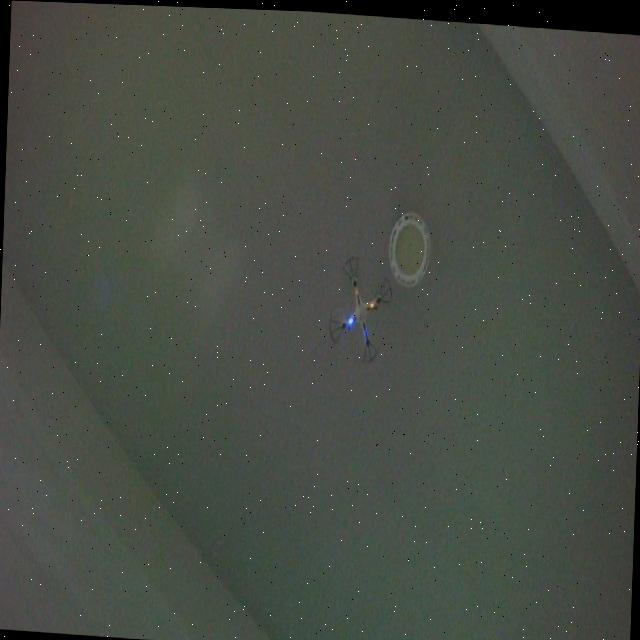drone: (326, 247, 397, 365)
